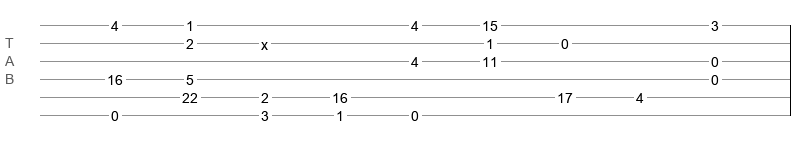0: (111, 108, 119, 118), (411, 108, 419, 118), (561, 36, 569, 46), (711, 72, 719, 82), (711, 54, 719, 64)
1: (186, 18, 194, 28), (336, 108, 344, 118), (486, 36, 494, 46)
11: (482, 54, 498, 64)
15: (482, 18, 498, 28)
16: (107, 72, 123, 82), (332, 90, 348, 100)
17: (557, 90, 573, 100)
2: (186, 36, 194, 46), (261, 90, 269, 100)
22: (182, 90, 198, 100)
3: (261, 108, 269, 118), (711, 18, 719, 28)
4: (111, 18, 119, 28), (411, 54, 419, 64), (411, 18, 419, 28), (636, 90, 644, 100)
5: (186, 72, 194, 82)
x: (261, 37, 268, 45)
